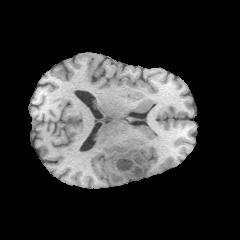glioma: (103, 145, 146, 184)
